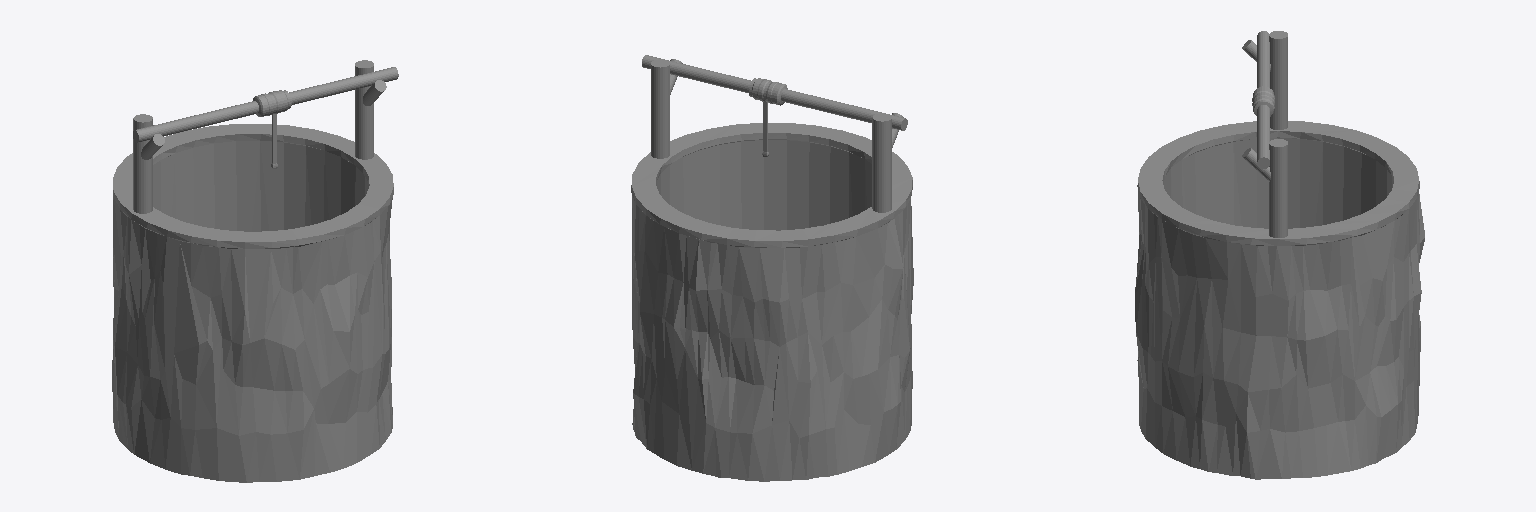
File: WaterWell.obj
The picture shows the model from 3 angles: view 1: azimuth 30°, elevation 25°; view 2: azimuth 150°, elevation 25°; view 3: azimuth 270°, elevation 25°; orthographic projection.
Visible parts, largest first — view 1: CylinderFBXASC046001; view 2: CylinderFBXASC046001; view 3: CylinderFBXASC046001.
Part boxes in pixels (bbox=[...]): CylinderFBXASC046001: bbox=[112, 60, 398, 482]; CylinderFBXASC046001: bbox=[631, 55, 913, 481]; CylinderFBXASC046001: bbox=[1135, 31, 1424, 479].
Bounding box in the file's own units: 6.89 × 8.37 × 6.61.